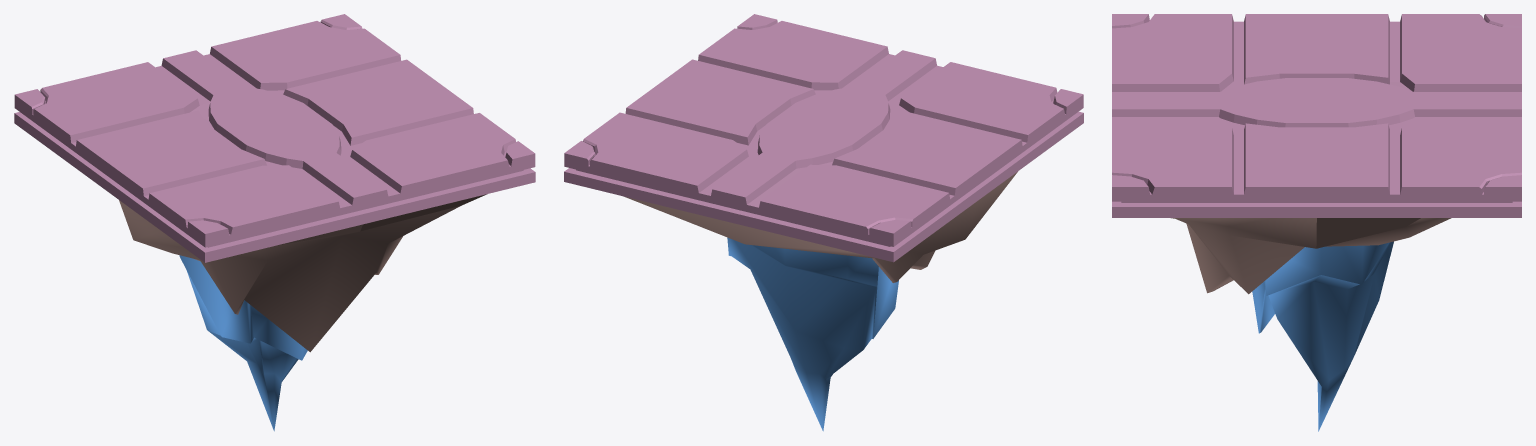
The model's file is Observatory_Interior_Tile.fbx.
The picture shows the model from 3 angles, left to right: view 1: azimuth 30°, elevation 25°; view 2: azimuth 150°, elevation 25°; view 3: azimuth 270°, elevation 25°; orthographic projection. The views are drawn at different scales.
Visible parts, largest first — view 1: Plane.001; view 2: Plane.001; view 3: Plane.001.
Part boxes in pixels (box(x1,y1,x2,y2)): Plane.001: box(14, 14, 535, 431); Plane.001: box(564, 14, 1083, 431); Plane.001: box(1112, 14, 1521, 431).
Bounding box in the file's own units: 519 × 463 × 518.
